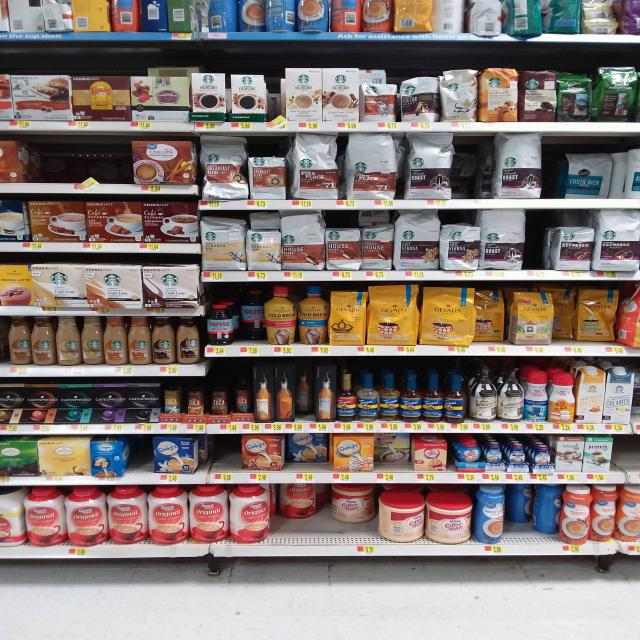void: (0, 135, 130, 184), (458, 133, 495, 198), (198, 434, 240, 473)
